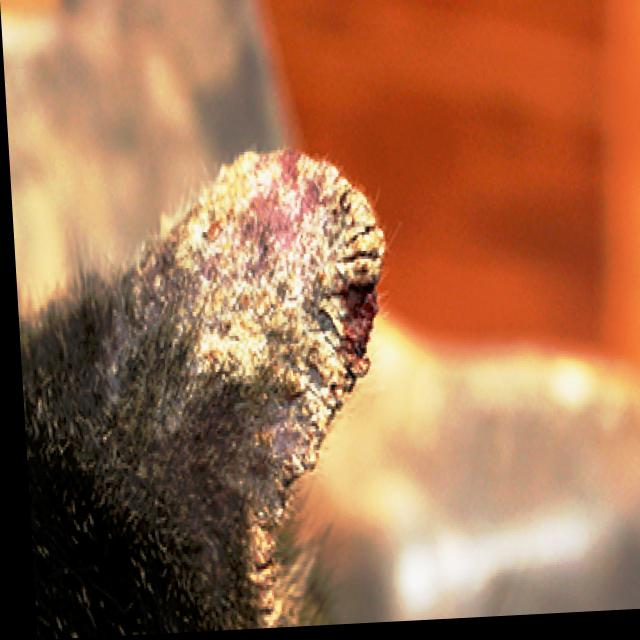ringworm: (175, 152, 386, 410)
